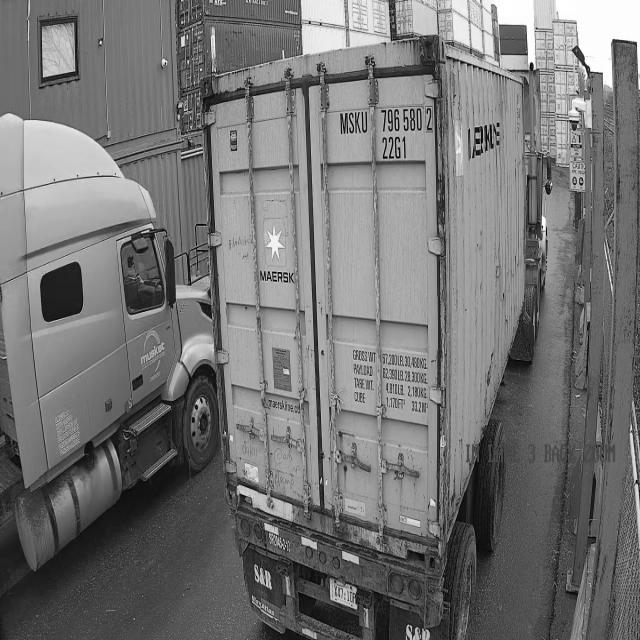container_company_logo: (258, 218, 292, 291)
container_number: (338, 108, 435, 164)
license_plate: (326, 580, 361, 610)
other_container_info: (350, 342, 428, 417)
truck_cabin: (0, 113, 220, 571)
truck_company: (140, 331, 165, 367)
truck_with_container: (202, 36, 552, 639)
